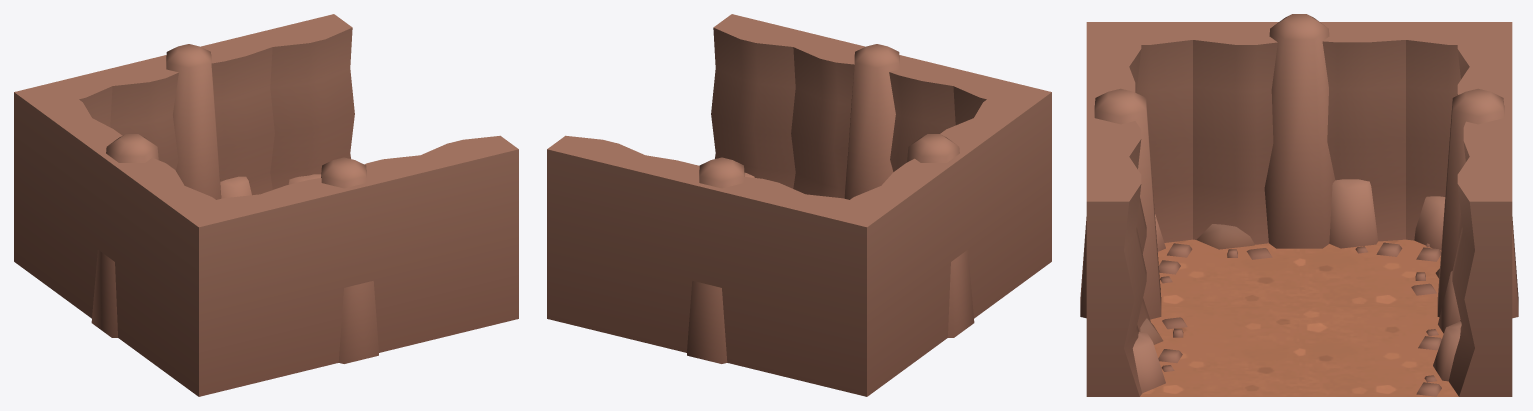
Rendered from corridor-wide-end.obj.
The picture shows the model from 3 angles, left to right: view 1: azimuth 30°, elevation 25°; view 2: azimuth 150°, elevation 25°; view 3: azimuth 270°, elevation 25°; orthographic projection. The views are drawn at different scales.
Visible parts, largest first — view 1: corridor-wide-end; view 2: corridor-wide-end; view 3: corridor-wide-end.
Boxes of the visible parts, x1,y1,x2,y2 form: corridor-wide-end: (14,14,518,396); corridor-wide-end: (547,14,1051,396); corridor-wide-end: (1080,14,1518,396).
Bounding box in the file's own units: 8.12 × 4.4 × 8.23.
Materials: 1 (1 with a texture image).
